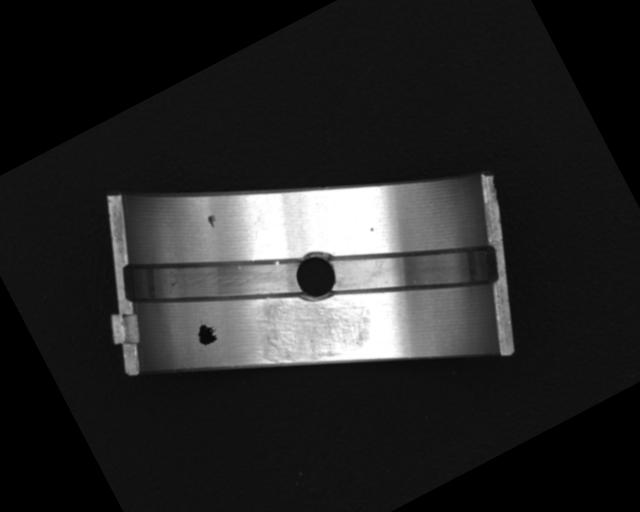blot: (192, 319, 220, 348)
bruise: (203, 211, 220, 230), (368, 226, 375, 233)
gap: (111, 194, 311, 368), (321, 188, 512, 351)
hole: (280, 241, 349, 311)
nick: (235, 217, 275, 261)
scratch: (240, 263, 385, 392)
